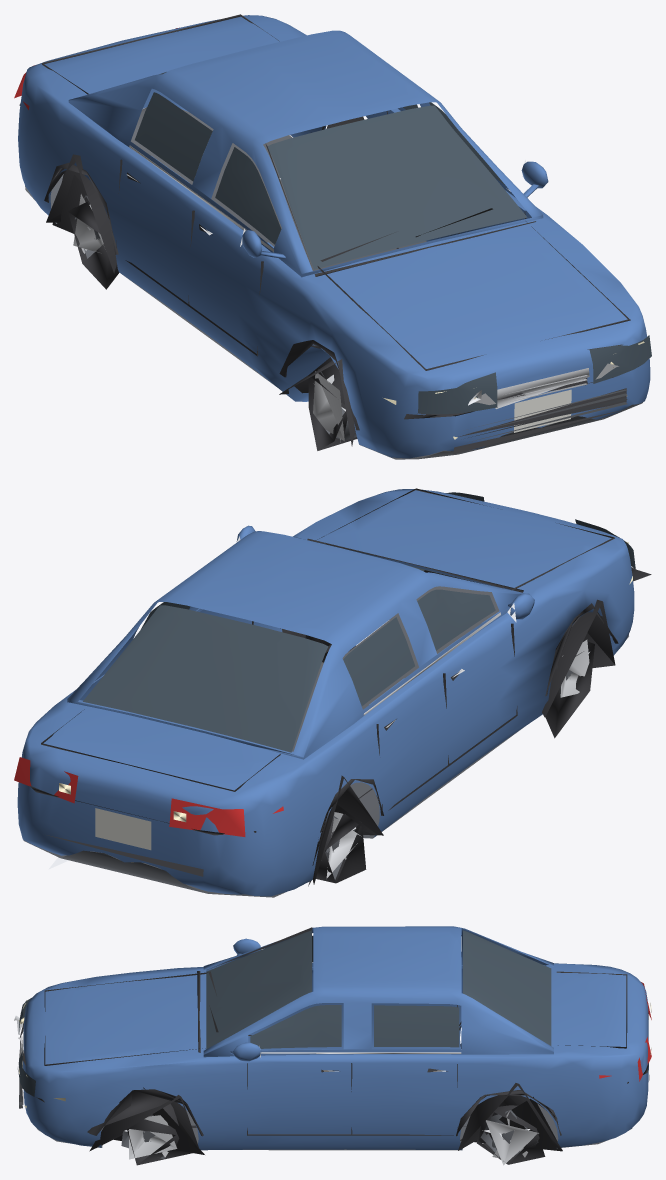
File: CarV3_Sedan_L2.fbx
The picture shows the model from 3 angles, top to bottom: view 1: azimuth 30°, elevation 25°; view 2: azimuth 150°, elevation 25°; view 3: azimuth 270°, elevation 25°; orthographic projection. The views are drawn at different scales.
Visible parts, largest first — view 1: CarV3_Sedan.001; view 2: CarV3_Sedan.001; view 3: CarV3_Sedan.001.
Boxes of the visible parts, x1,y1,x2,y2 form: CarV3_Sedan.001: [14, 14, 651, 459]; CarV3_Sedan.001: [14, 488, 651, 897]; CarV3_Sedan.001: [14, 926, 651, 1165].
Bounding box in the file's own units: 1.95 × 1.47 × 4.83.
